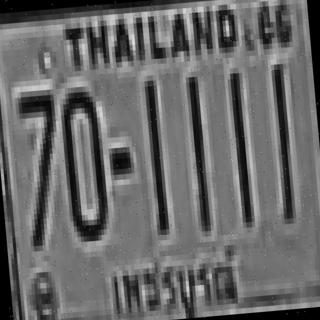N00: (59, 85, 110, 237)
N01: (272, 61, 298, 221), (188, 74, 214, 229), (228, 70, 253, 225), (144, 78, 169, 232)
N07: (14, 89, 66, 246)
P43: (100, 238, 250, 320)
